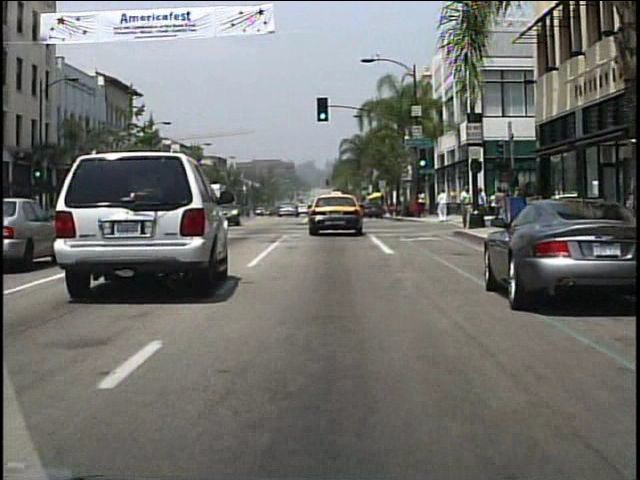person: (472, 187, 489, 228), (491, 187, 507, 228), (459, 184, 473, 228), (473, 187, 487, 227), (436, 189, 449, 222), (487, 191, 498, 222), (418, 190, 428, 218)
